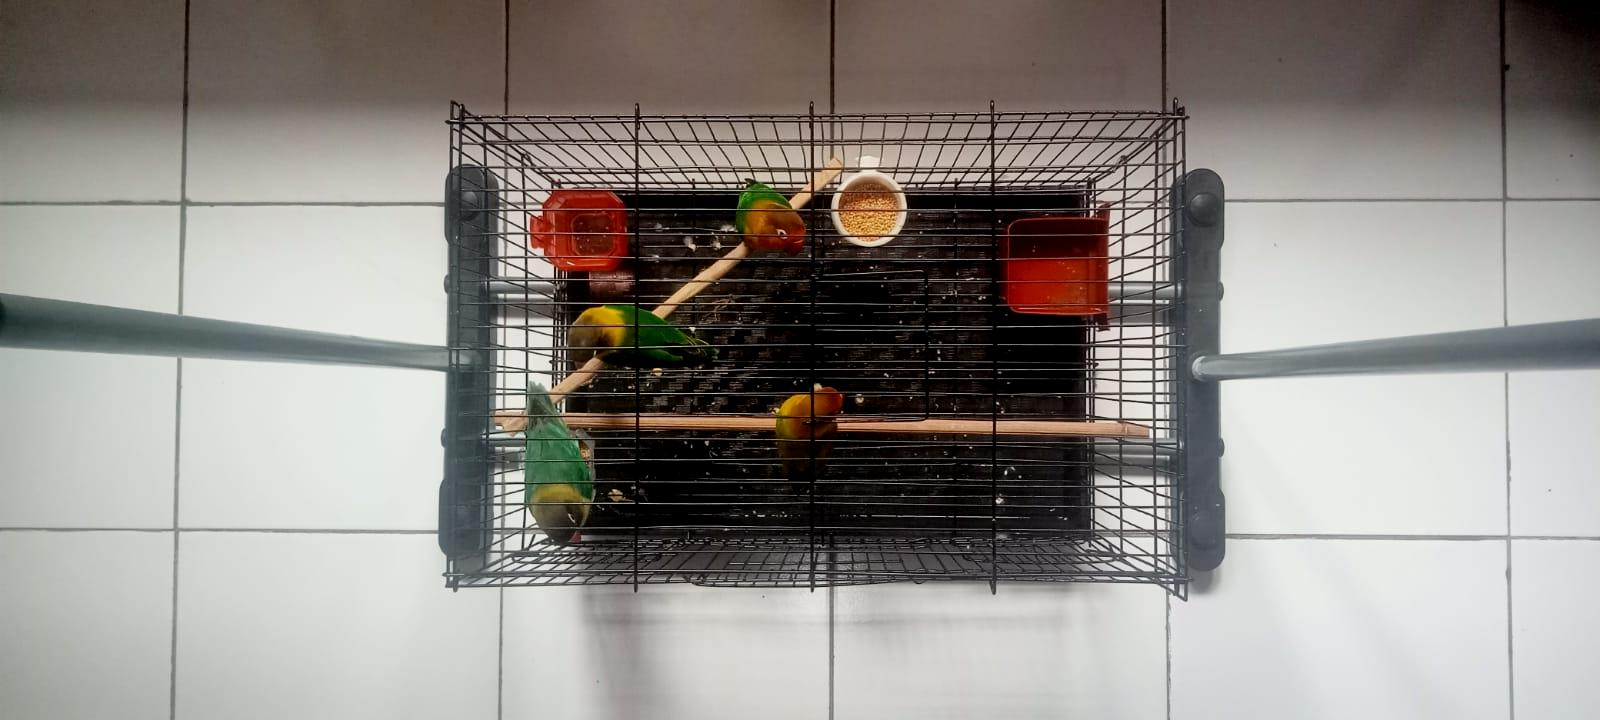LoveBird: (524, 381, 595, 543), (568, 305, 718, 369), (777, 388, 846, 497), (735, 181, 806, 257)
